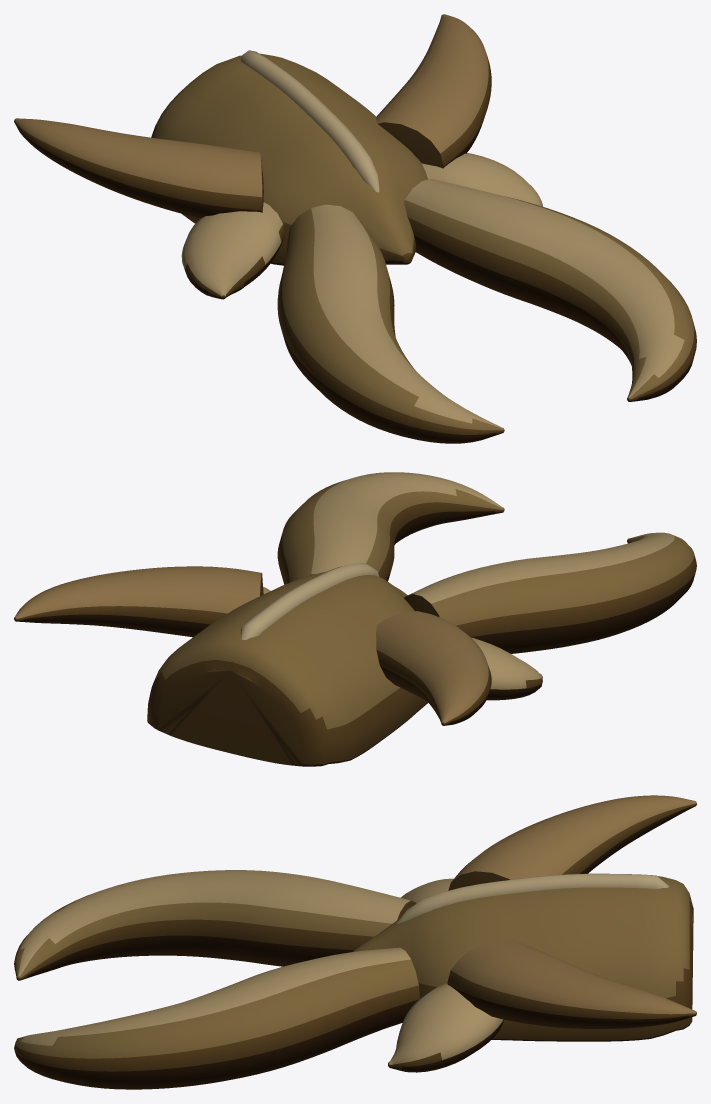
The model's file is tusk_beetle.glb.
3 views of the same model, one above another, from view 1: azimuth 30°, elevation 25°; view 2: azimuth 150°, elevation 25°; view 3: azimuth 270°, elevation 25° (orthographic).
Visible parts, largest first — view 1: tusk_r, tusk_l, carapace, horn_l, horn_r, plate_l, keel, plate_r; view 2: carapace, tusk_l, tusk_r, horn_r, horn_l, keel, plate_l; view 3: tusk_r, tusk_l, carapace, horn_r, horn_l, plate_r, keel, plate_l.
Boxes of the visible parts, box(x1,y1,x2,y2) form: tusk_r: box(404, 178, 696, 401); tusk_l: box(277, 204, 504, 443); carapace: box(151, 53, 427, 265); horn_l: box(14, 118, 263, 218); horn_r: box(376, 14, 491, 168); plate_l: box(181, 202, 284, 299); keel: box(240, 50, 379, 192); plate_r: box(422, 153, 542, 206); carapace: box(147, 571, 427, 766); tusk_l: box(404, 532, 696, 653); tusk_r: box(277, 472, 504, 584); horn_r: box(14, 566, 263, 637); horn_l: box(376, 611, 491, 725); keel: box(240, 563, 379, 639); plate_l: box(471, 637, 542, 700); tusk_r: box(14, 947, 419, 1089); tusk_l: box(14, 870, 416, 980); carapace: box(353, 876, 693, 1041); horn_r: box(447, 940, 696, 1028); horn_l: box(448, 795, 696, 890); plate_r: box(388, 983, 503, 1072); keel: box(396, 873, 669, 923); plate_l: box(401, 878, 453, 903).
Size of the model in its own units: 20.81 by 6.5 by 27.66.
